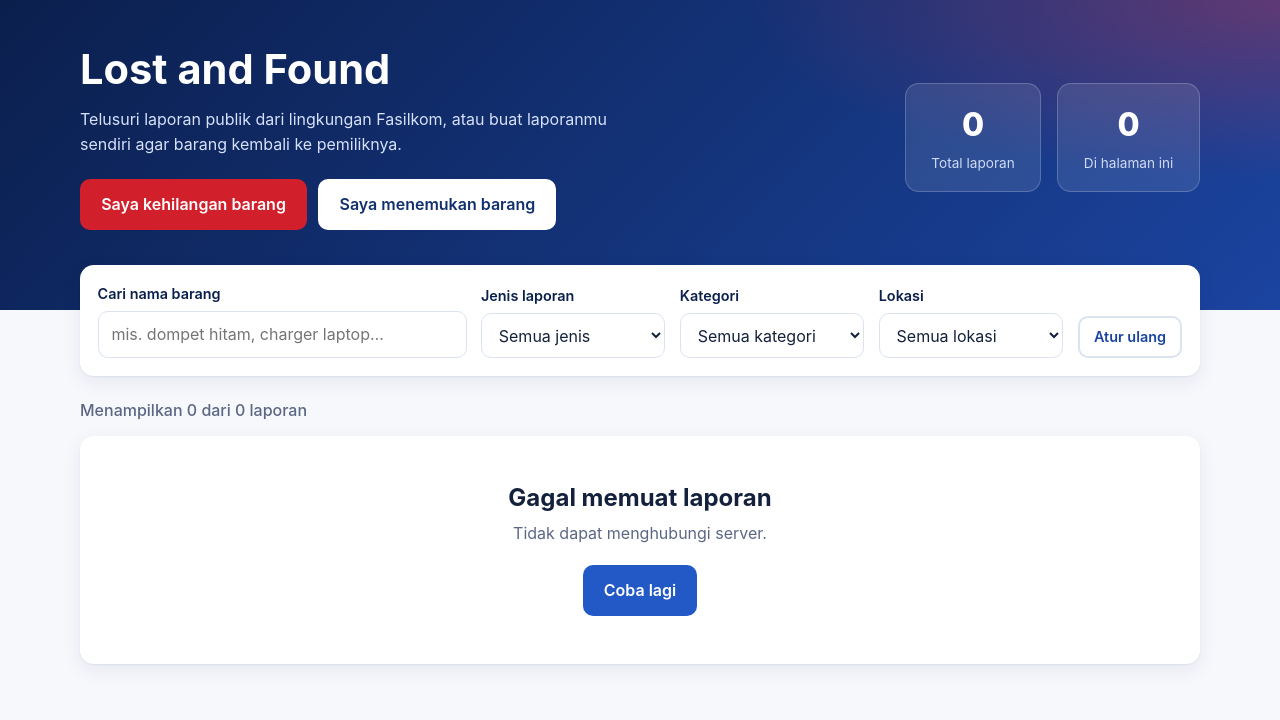
Test case: ReportListPage retry › re-issues the request when the failure is retried
Step 1. Click the button "Coba lagi" → click(640, 590), box x1=583 y1=564 x2=697 y2=616
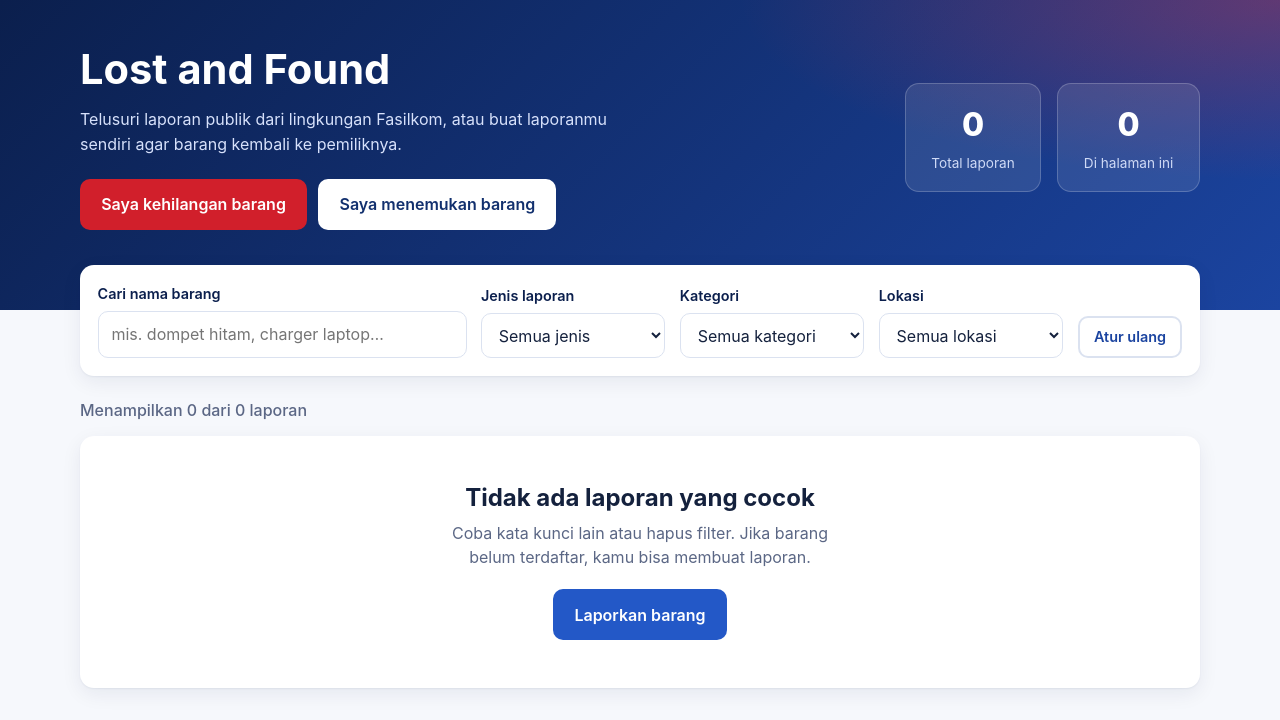
expect the heading "Gagal memuat laporan" is gone: met
